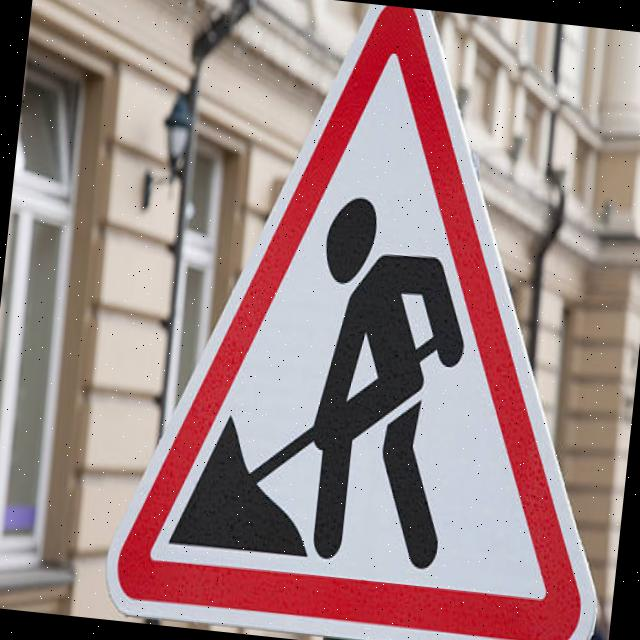road_work: (99, 0, 640, 640)
